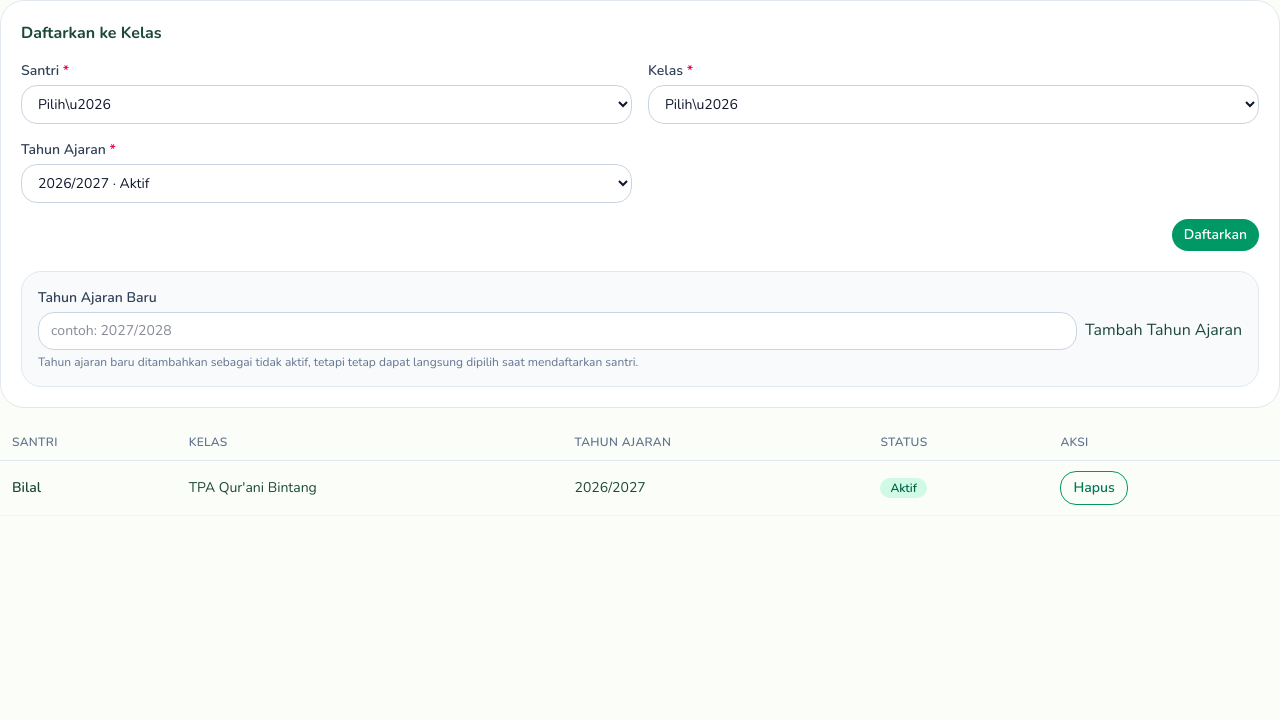
Test: EnrollmentsScreen › creates an enrollment posting { student_id, class_id, academic_year_id } and the row appears
Expected: the text "Bilal" is shown, [0,460,177,516]
Select "Hasan" in the dropdown labelled "Santri *" at (326, 104), box [21,85,632,124]
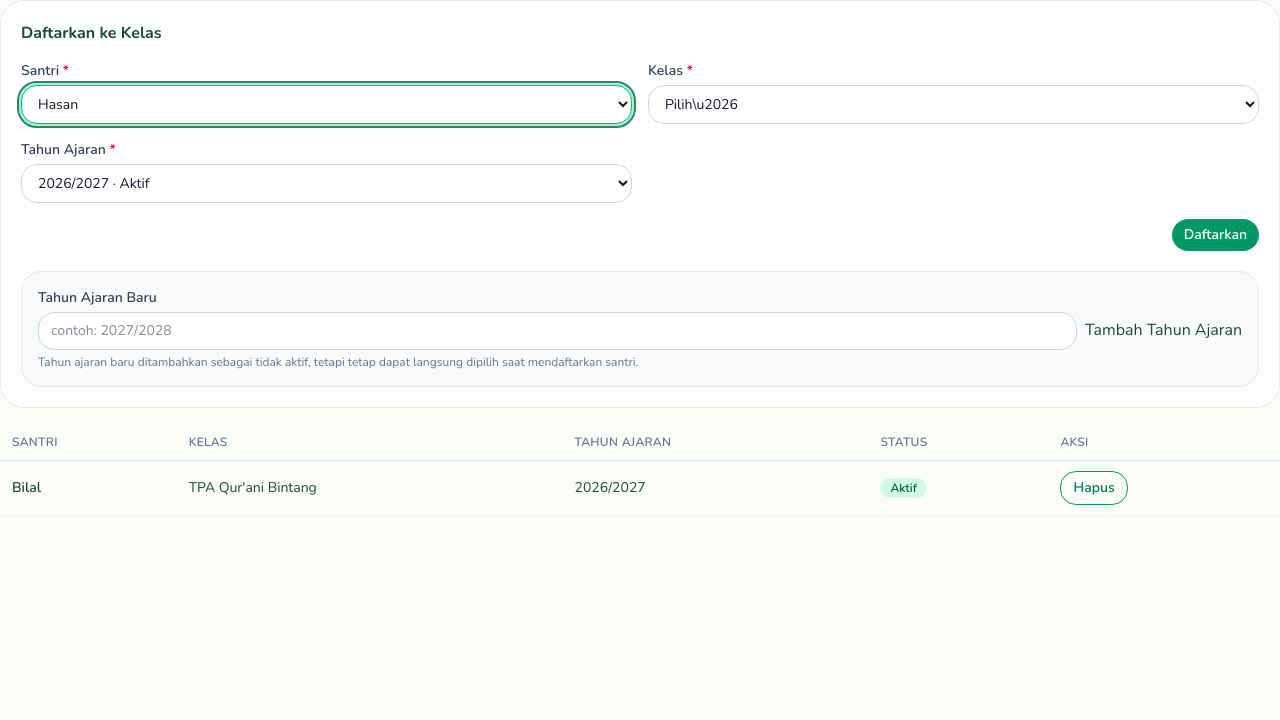
Select "TPA Qur'ani Bintang" in the dropdown labelled "Kelas *" at (954, 104), box [648,85,1259,124]
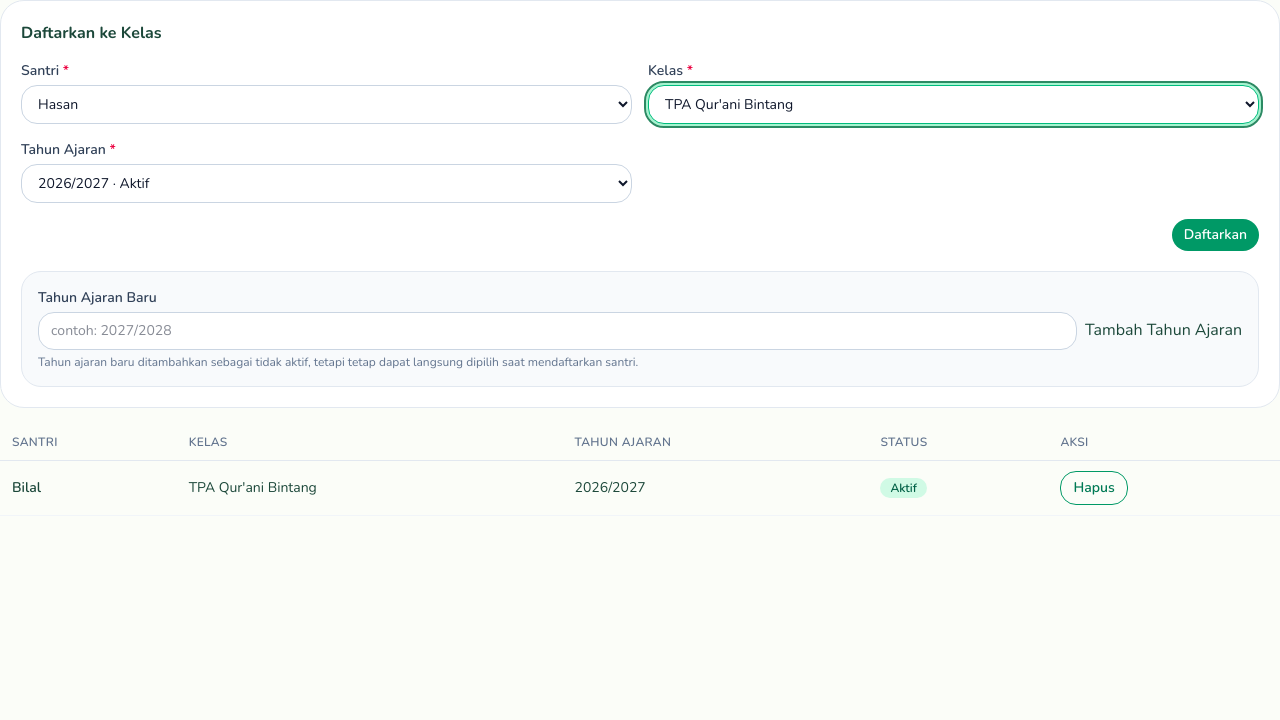
Select "2026/2027 · Aktif" in the dropdown labelled "Tahun Ajaran *" at (326, 184), box [21,164,632,203]
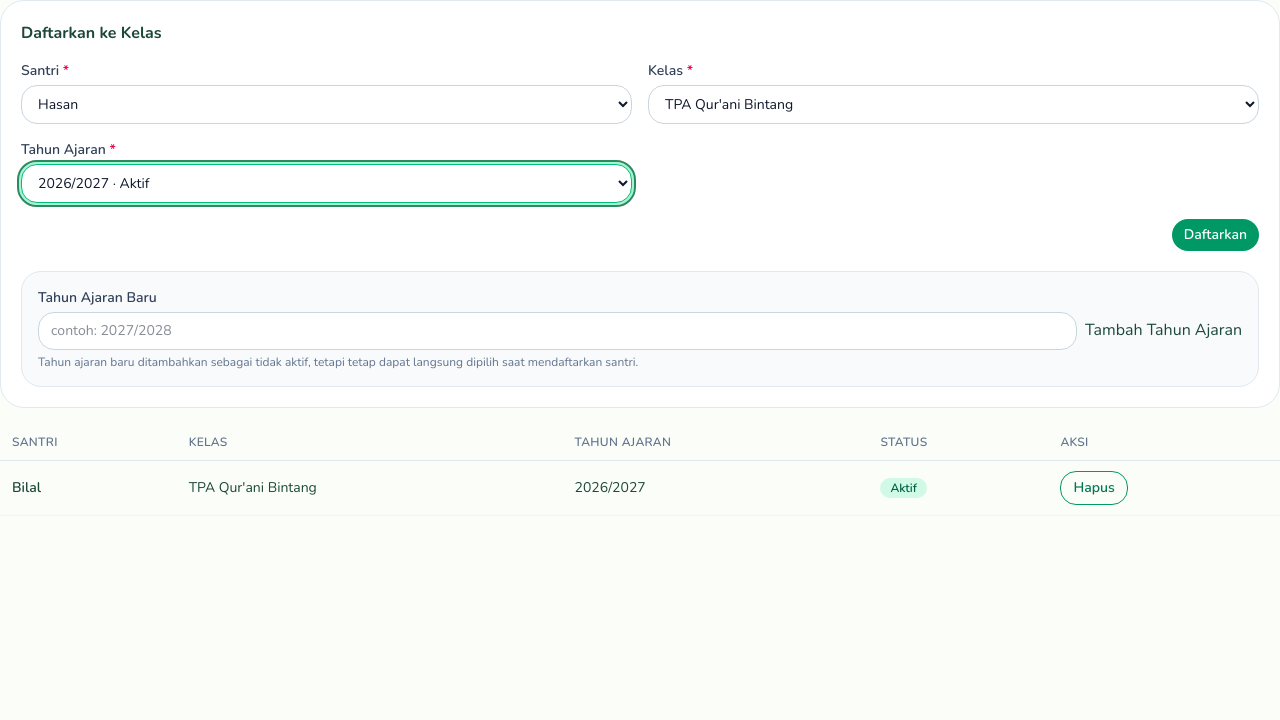
Click the button "Daftarkan".
click(1215, 235)  # box [1172,219,1259,251]
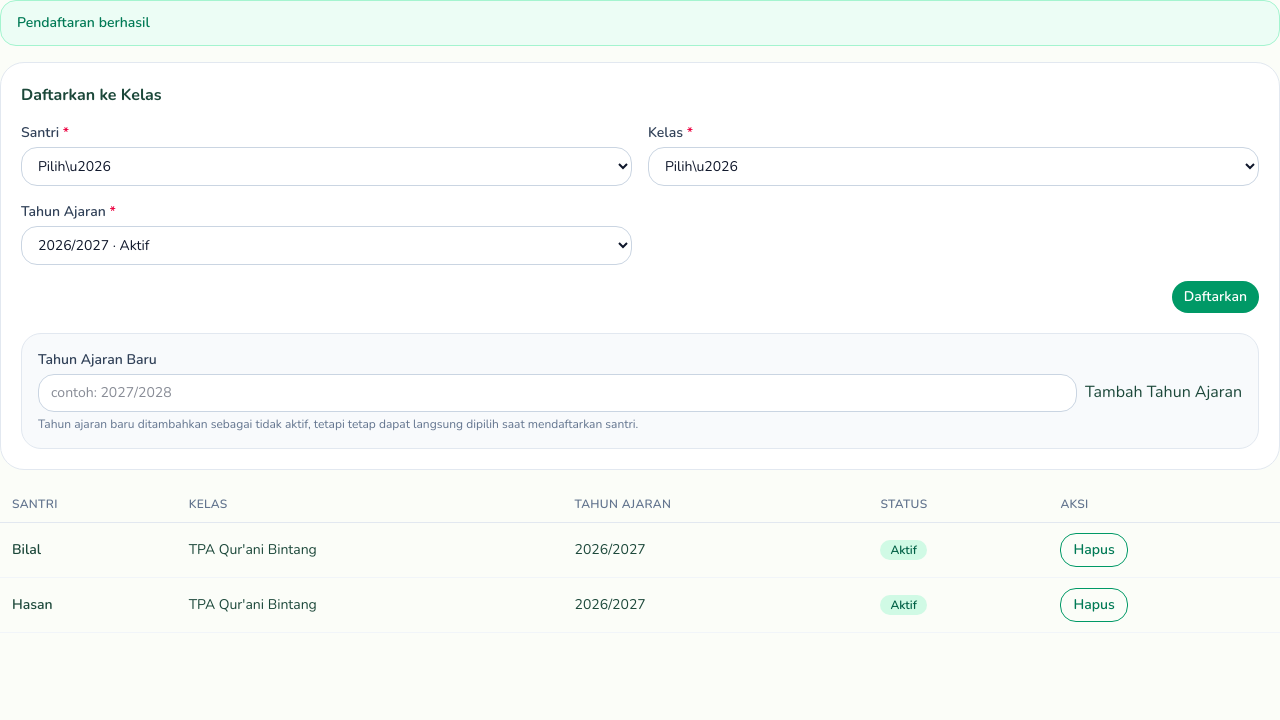
Now the text "Hasan" is shown, box [0,578,177,632]
Now the text "Pendaftaran berhasil" is shown, box [0,0,1279,46]
